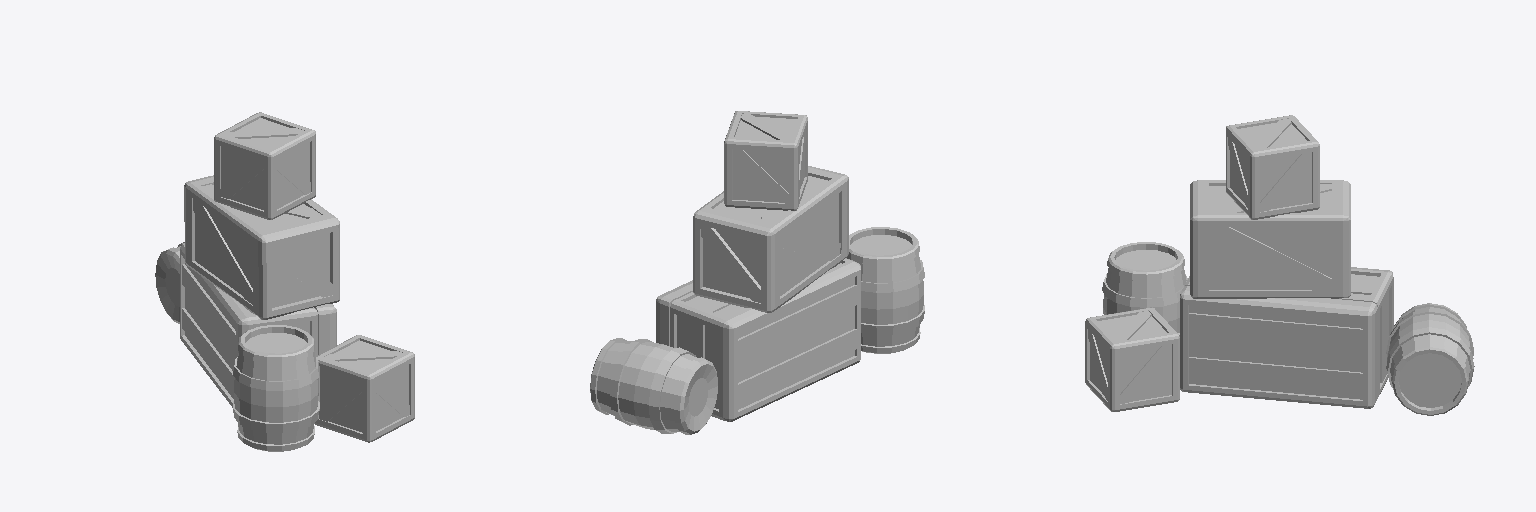
Rendered from crates_merged_2.obj.
3 renders of one model, left to right at view 1: azimuth 30°, elevation 25°; view 2: azimuth 150°, elevation 25°; view 3: azimuth 270°, elevation 25°, orthographic.
Visible parts, largest first — view 1: cratesmerged2_crates_0; view 2: cratesmerged2_crates_0; view 3: cratesmerged2_crates_0.
Part boxes in pixels (left/top/right/bottom): cratesmerged2_crates_0: left=155, top=112, right=414, bottom=451; cratesmerged2_crates_0: left=590, top=111, right=924, bottom=434; cratesmerged2_crates_0: left=1085, top=115, right=1474, bottom=415.
Size of the model in its own units: 24.05 by 33.85 by 47.77.